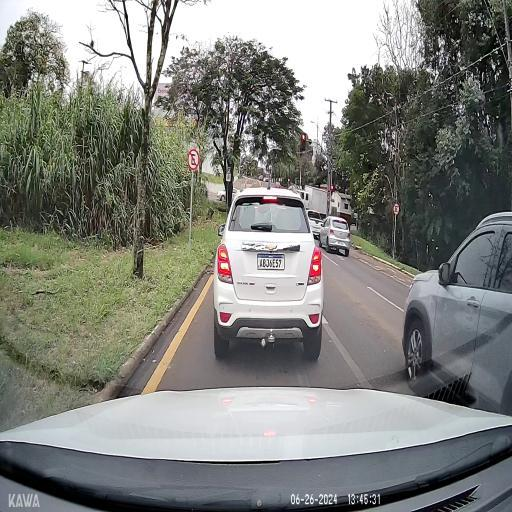R-6a: (187, 148, 199, 170)
R-6c: (393, 202, 399, 214)
